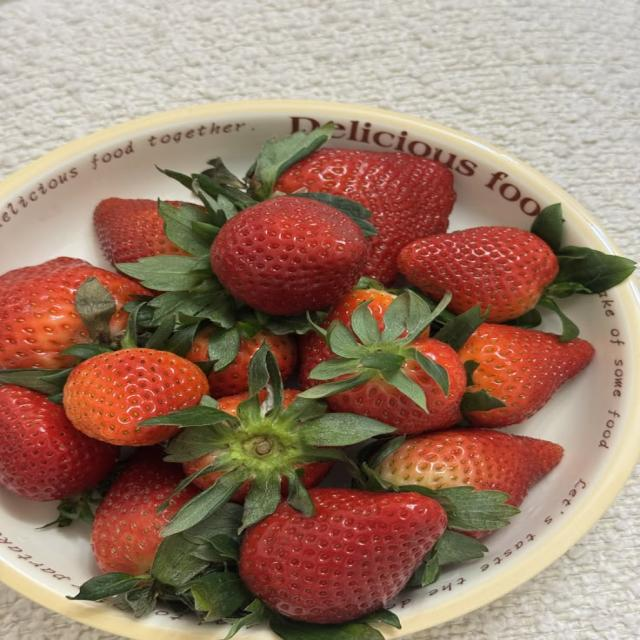strawberry: (145, 345, 393, 534), (239, 488, 446, 623), (274, 148, 455, 285), (301, 292, 466, 433), (211, 196, 366, 315), (0, 257, 149, 369), (398, 226, 559, 322), (374, 428, 563, 506), (63, 348, 208, 446), (459, 323, 594, 427), (0, 385, 119, 501), (91, 447, 198, 575), (94, 198, 188, 264), (208, 329, 297, 398), (322, 287, 396, 330), (183, 450, 226, 489)
